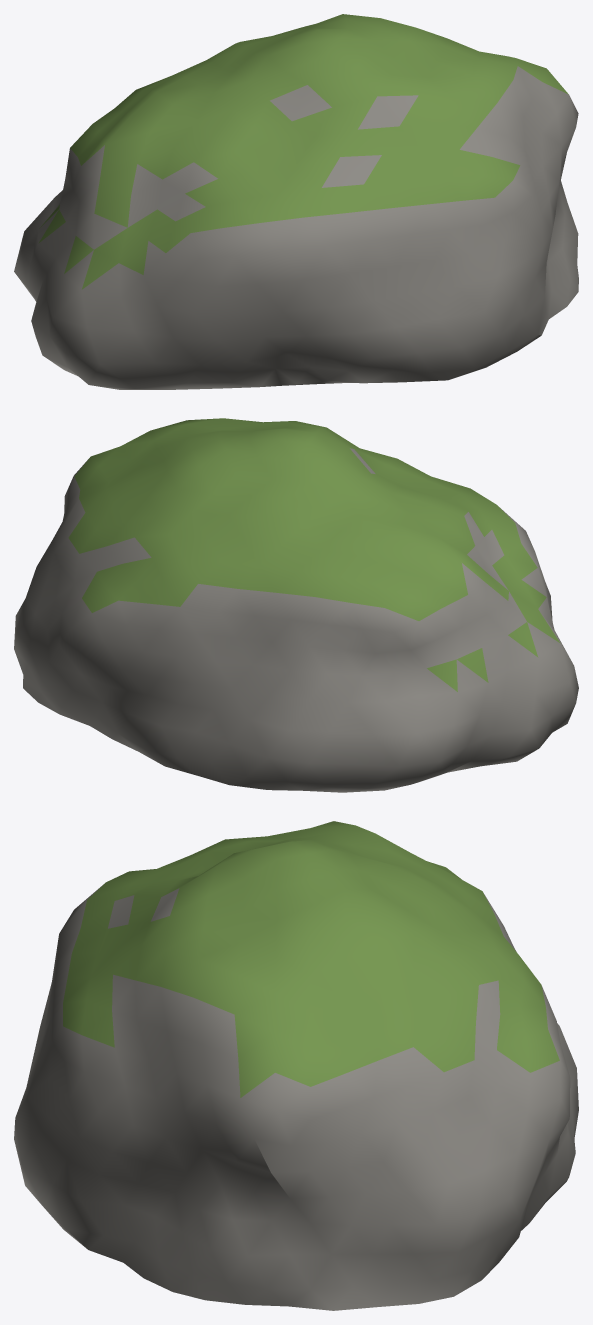
The model's file is rock_b.glb.
3 views of the same model, one above another, from view 1: azimuth 30°, elevation 25°; view 2: azimuth 150°, elevation 25°; view 3: azimuth 270°, elevation 25° (orthographic). The views are drawn at different scales.
Visible parts, largest first — view 1: rock_b; view 2: rock_b; view 3: rock_b.
Boxes of the visible parts, left/top/right/bottom form: rock_b: left=14, top=14, right=578, bottom=389; rock_b: left=14, top=418, right=578, bottom=792; rock_b: left=14, top=821, right=578, bottom=1310.
Size of the model in its own units: 0.5292 by 0.26 by 0.4147.
